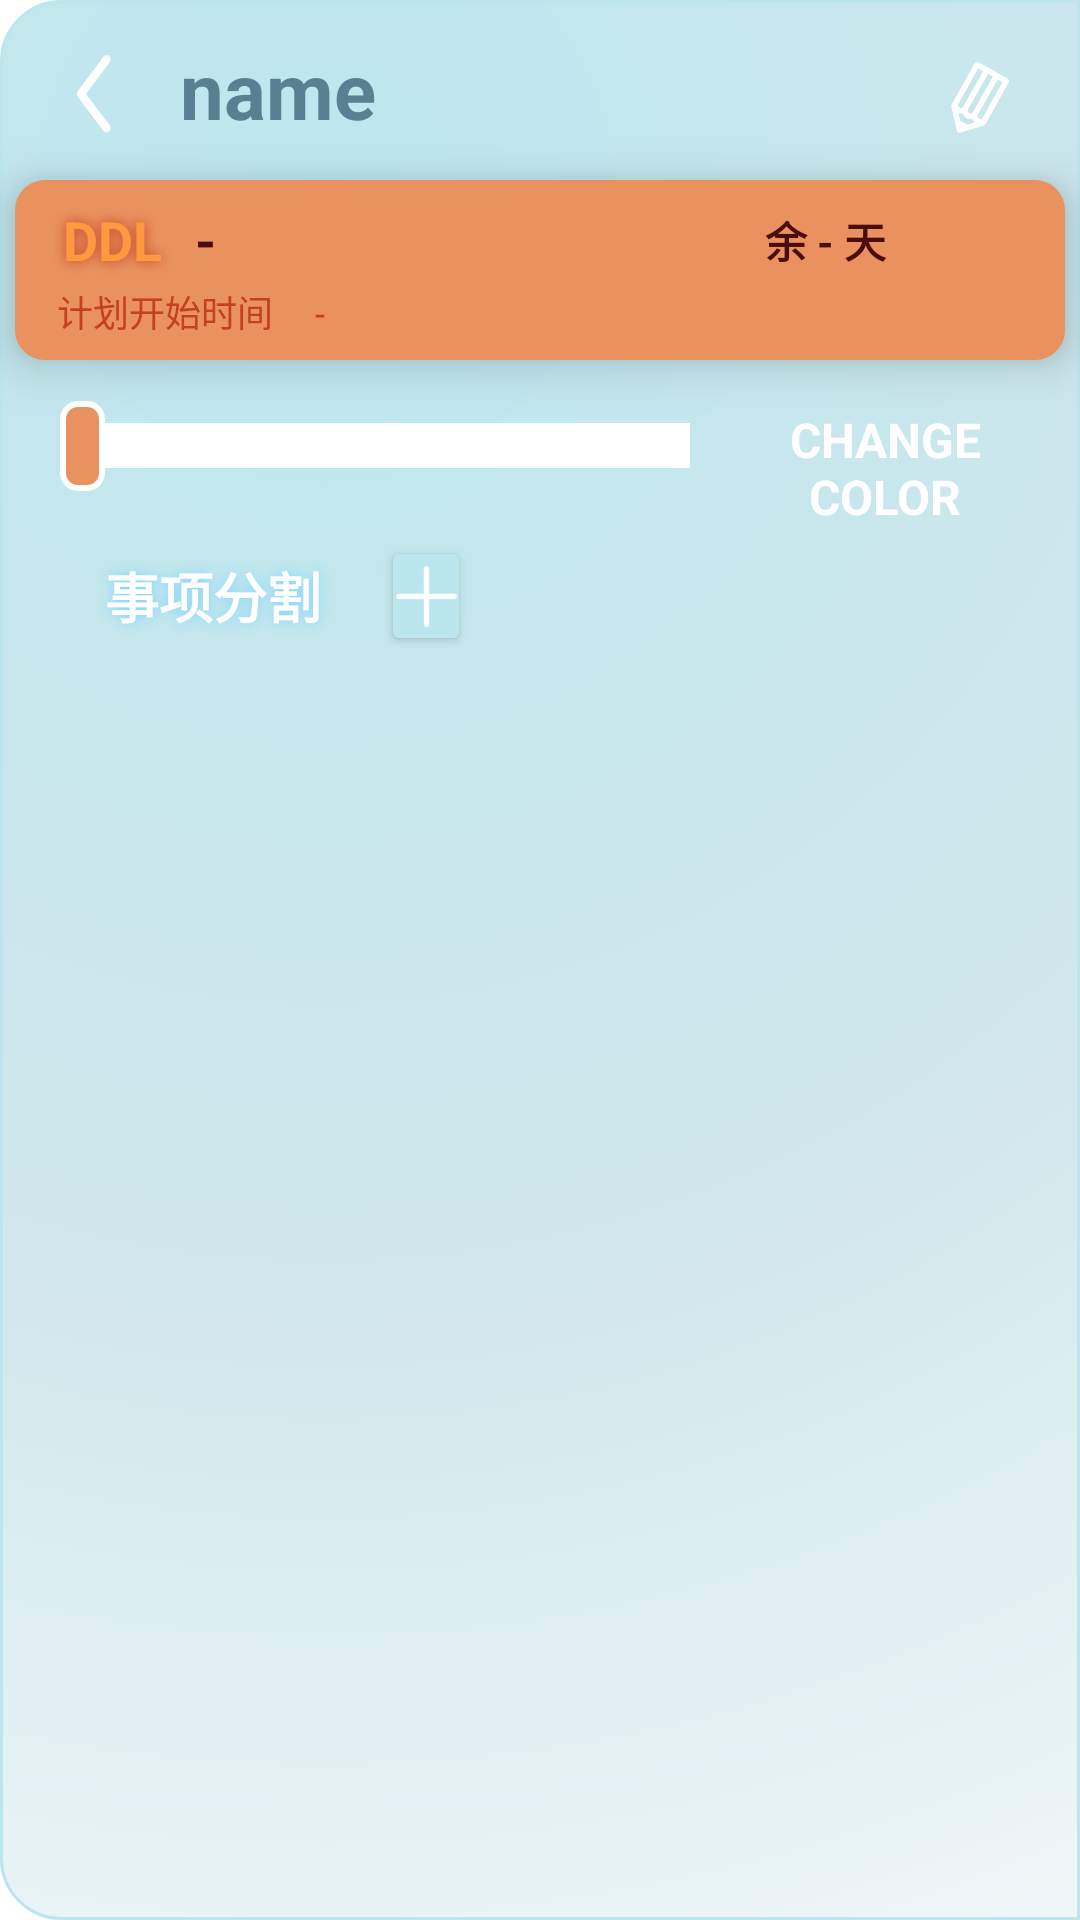

Where icons sit on this 1080 × 1920 app screen, as (left=x1, top=y1, right=x2, bottom=y2):
add: (left=396, top=566, right=457, bottom=627)
back: (left=77, top=55, right=111, bottom=132)
edit: (left=951, top=62, right=1009, bottom=133)
